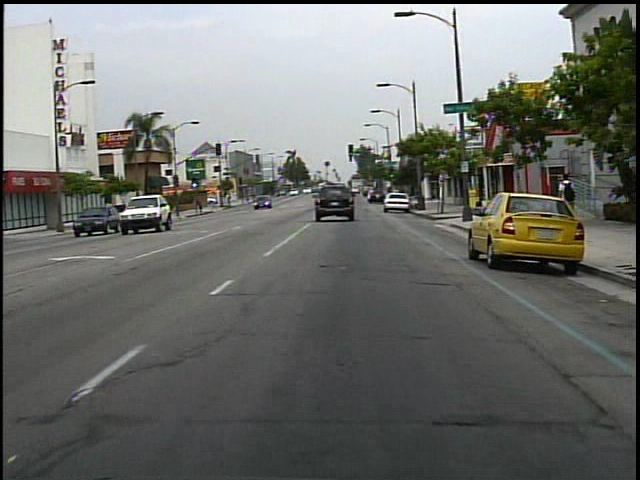person: (550, 170, 579, 223)
